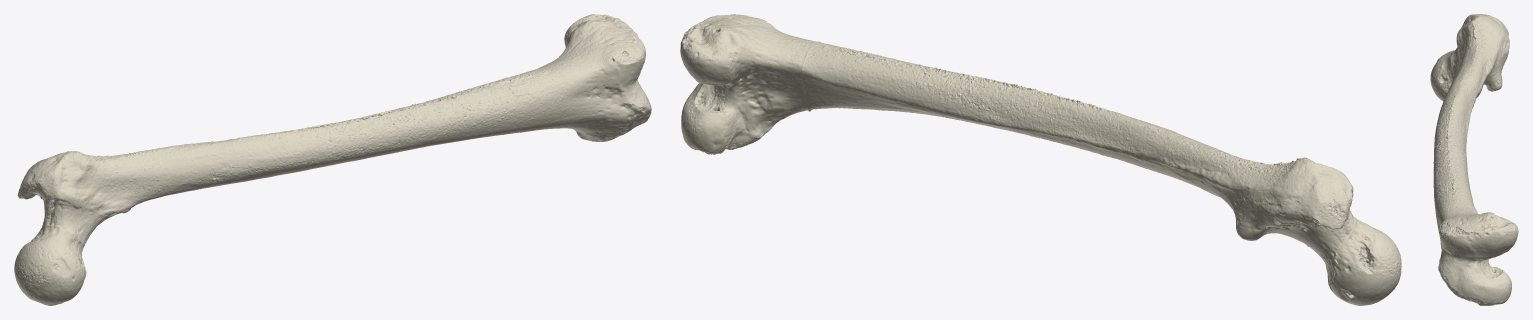
File: femur.glb
3 views of the same model, side by side, from view 1: azimuth 30°, elevation 25°; view 2: azimuth 150°, elevation 25°; view 3: azimuth 270°, elevation 25° (orthographic). The views are drawn at different scales.
Visible parts, largest first — view 1: Femur; view 2: Femur; view 3: Femur.
Boxes of the visible parts, x1,y1,x2,y2 form: Femur: (14,14,651,305); Femur: (680,14,1401,305); Femur: (1430,14,1518,305).
Bounding box in the file's own units: 6.52 × 1.29 × 1.03.
